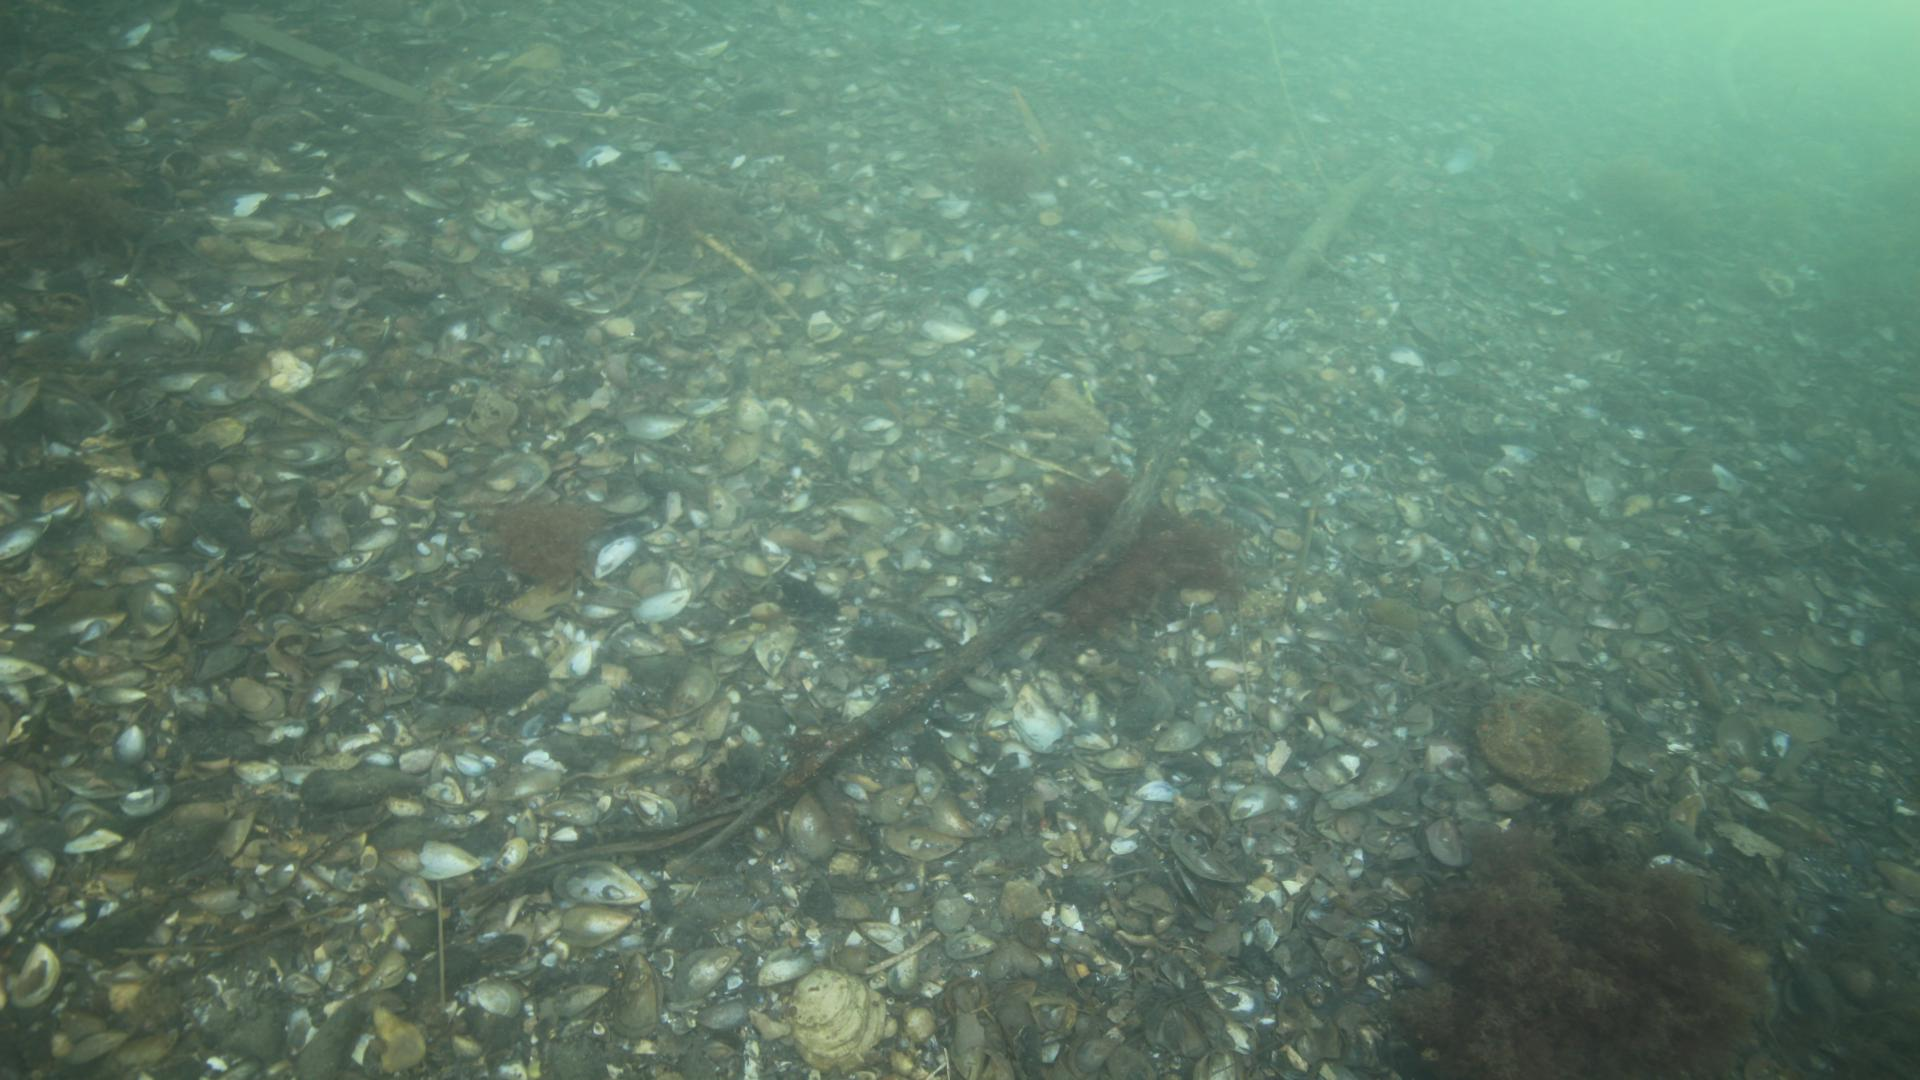wood: (823, 174, 1371, 760)
